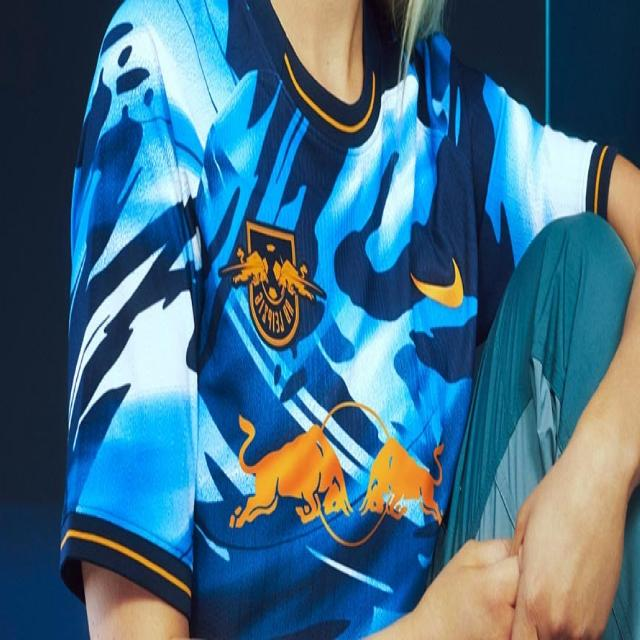nike: (410, 241, 470, 330)
